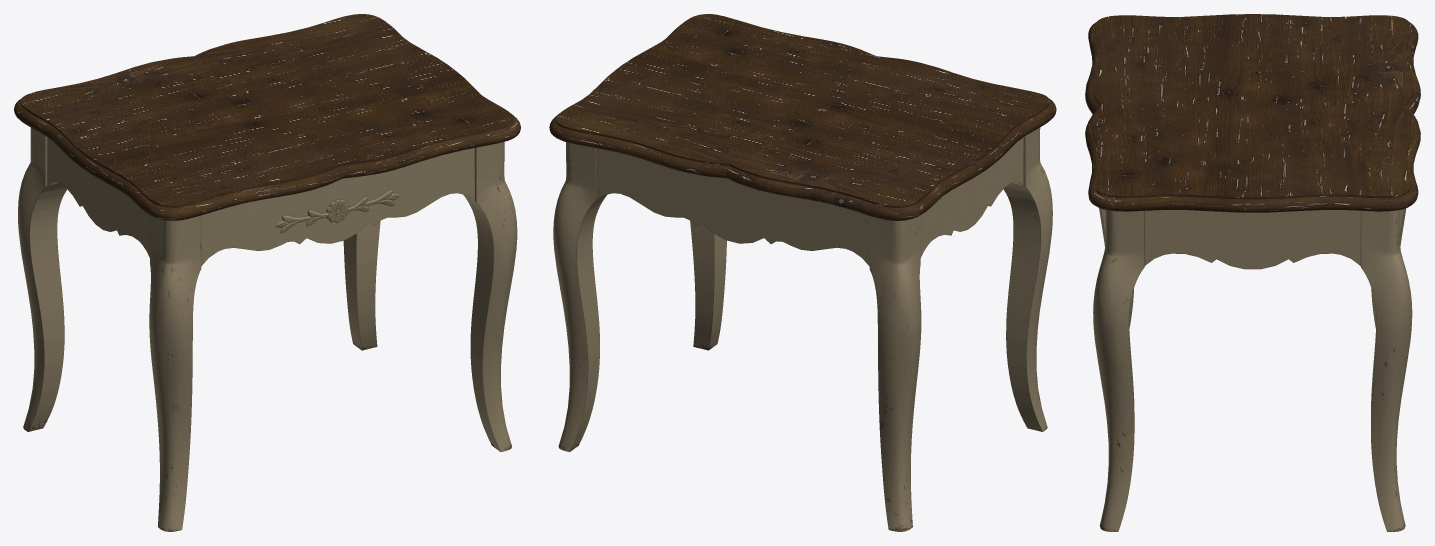
Rendered from example141.glb.
The picture shows the model from 3 angles, left to right: view 1: azimuth 30°, elevation 25°; view 2: azimuth 150°, elevation 25°; view 3: azimuth 270°, elevation 25°; orthographic projection. The views are drawn at different scales.
Parts seen in each view (by area): view 1: Buffer Layer (×2); view 2: Buffer Layer (×2); view 3: Buffer Layer (×2).
Part boxes in pixels (x1=…): Buffer Layer (×2): x1=14, y1=14, x2=520, y2=531; Buffer Layer (×2): x1=549, y1=14, x2=1056, y2=531; Buffer Layer (×2): x1=1085, y1=14, x2=1420, y2=531.
Size of the model in its own units: 0.96 by 0.7998 by 0.7199.
2 materials, 2 textured.
